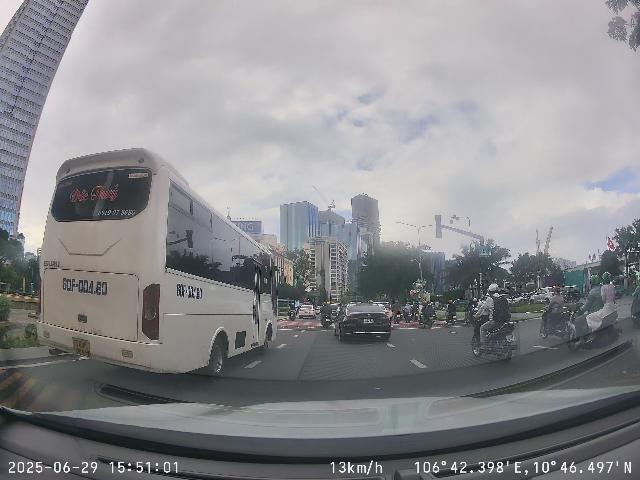423a-duong-nguoi-di-bo-sang-ngang-1: (479, 246, 489, 257)
